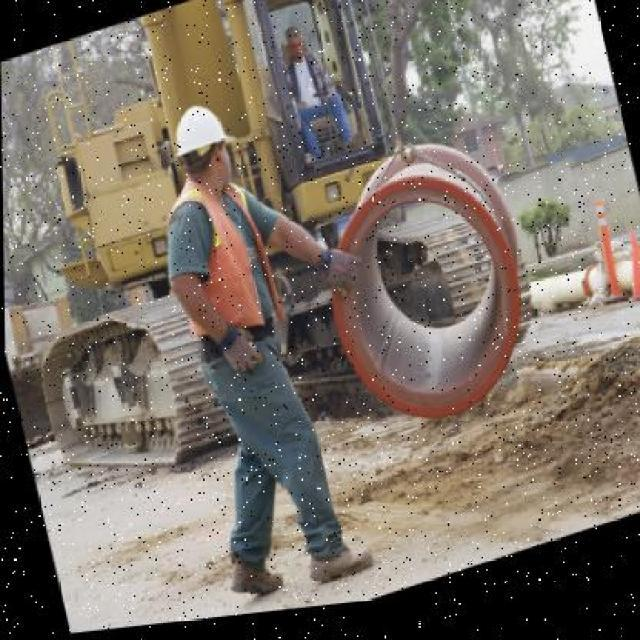helmet: (162, 102, 234, 184)
vest: (168, 159, 294, 385)
